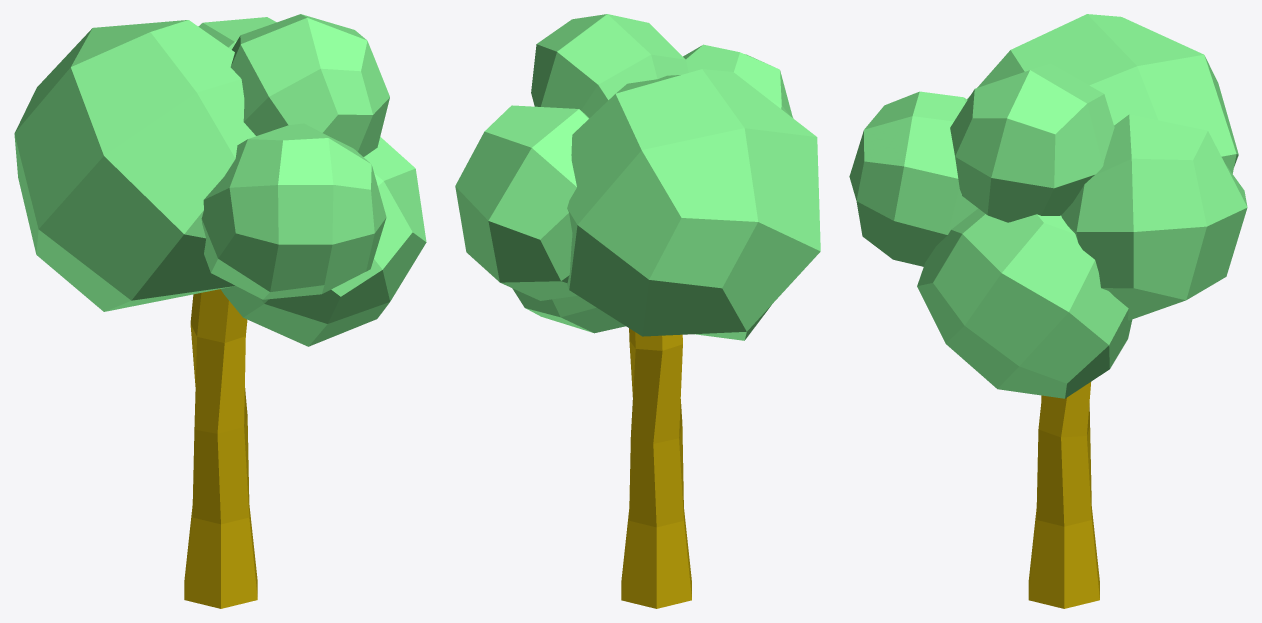
Rendered from Tree_type_2.fbx.
The picture shows the model from 3 angles, left to right: view 1: azimuth 30°, elevation 25°; view 2: azimuth 150°, elevation 25°; view 3: azimuth 270°, elevation 25°; orthographic projection. The views are drawn at different scales.
Parts seen in each view (by area): view 1: pPlatonic32, pPlatonic33, pCylinder58, pPlatonic34, pPlatonic35, pPlatonic31; view 2: pPlatonic32, pPlatonic31, pCylinder58, pPlatonic34, pPlatonic33, pPlatonic35; view 3: pPlatonic35, pPlatonic31, pPlatonic34, pPlatonic32, pPlatonic33, pCylinder58.
Boxes of the visible parts, bbox=[...] form: pPlatonic32: bbox=[14, 20, 255, 311]; pPlatonic33: bbox=[201, 123, 386, 299]; pCylinder58: bbox=[184, 289, 257, 608]; pPlatonic34: bbox=[230, 14, 389, 156]; pPlatonic35: bbox=[220, 137, 426, 346]; pPlatonic31: bbox=[198, 17, 276, 49]; pPlatonic32: bbox=[567, 69, 820, 340]; pPlatonic31: bbox=[455, 105, 589, 300]; pCylinder58: bbox=[621, 328, 691, 608]; pPlatonic34: bbox=[531, 14, 688, 117]; pPlatonic33: bbox=[683, 44, 793, 118]; pPlatonic35: bbox=[512, 288, 625, 333]; pPlatonic35: bbox=[917, 208, 1132, 398]; pPlatonic31: bbox=[1061, 114, 1247, 320]; pPlatonic34: bbox=[950, 63, 1114, 222]; pPlatonic32: bbox=[967, 14, 1238, 173]; pPlatonic33: bbox=[849, 91, 977, 266]; pCylinder58: bbox=[1028, 382, 1099, 608].
Size of the model in its own units: 32.5 by 50.76 by 33.06.
